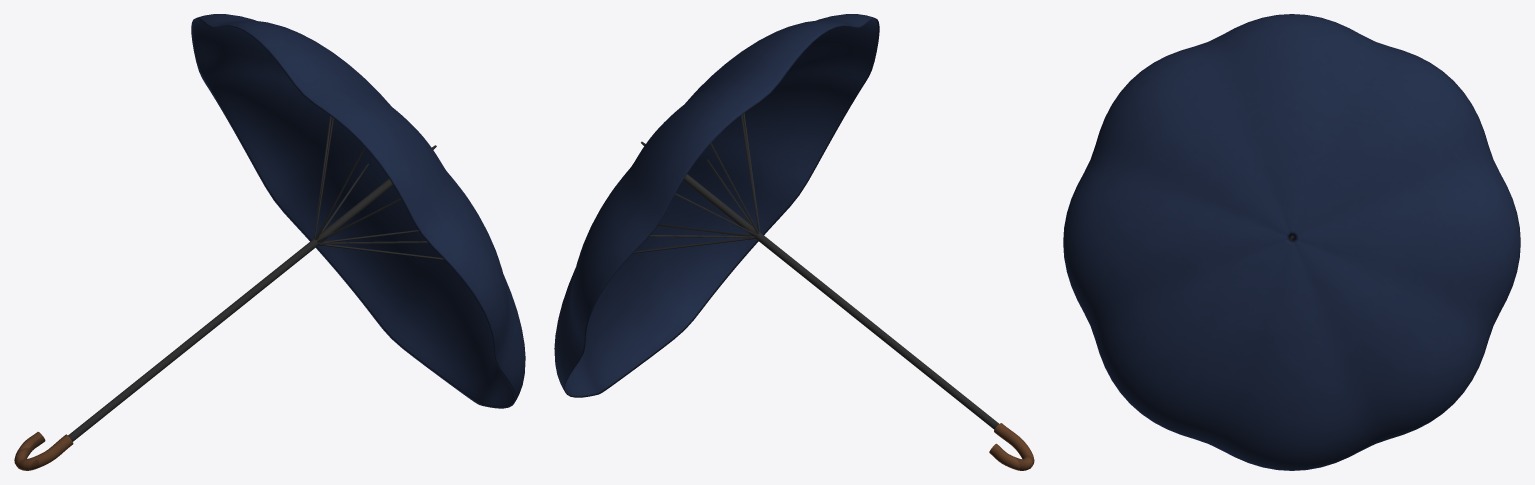
The model's file is open-navy.glb.
3 views of the same model, side by side, from view 1: azimuth 30°, elevation 25°; view 2: azimuth 150°, elevation 25°; view 3: azimuth 270°, elevation 25° (orthographic). The views are drawn at different scales.
Visible parts, largest first — view 1: fabric_primary_canopy, shaft, wood_v; view 2: fabric_primary_canopy, shaft, wood_v; view 3: fabric_primary_canopy.
Part boxes in pixels (x1,y1,x2,y2): fabric_primary_canopy: (191, 14, 525, 408); shaft: (68, 116, 444, 441); wood_v: (14, 432, 73, 470); fabric_primary_canopy: (554, 14, 879, 397); shaft: (633, 113, 998, 429); wood_v: (989, 423, 1034, 470); fabric_primary_canopy: (1063, 14, 1520, 470).
Size of the model in its own units: 1.02 by 0.879 by 0.9928.
3 materials, 3 textured.
